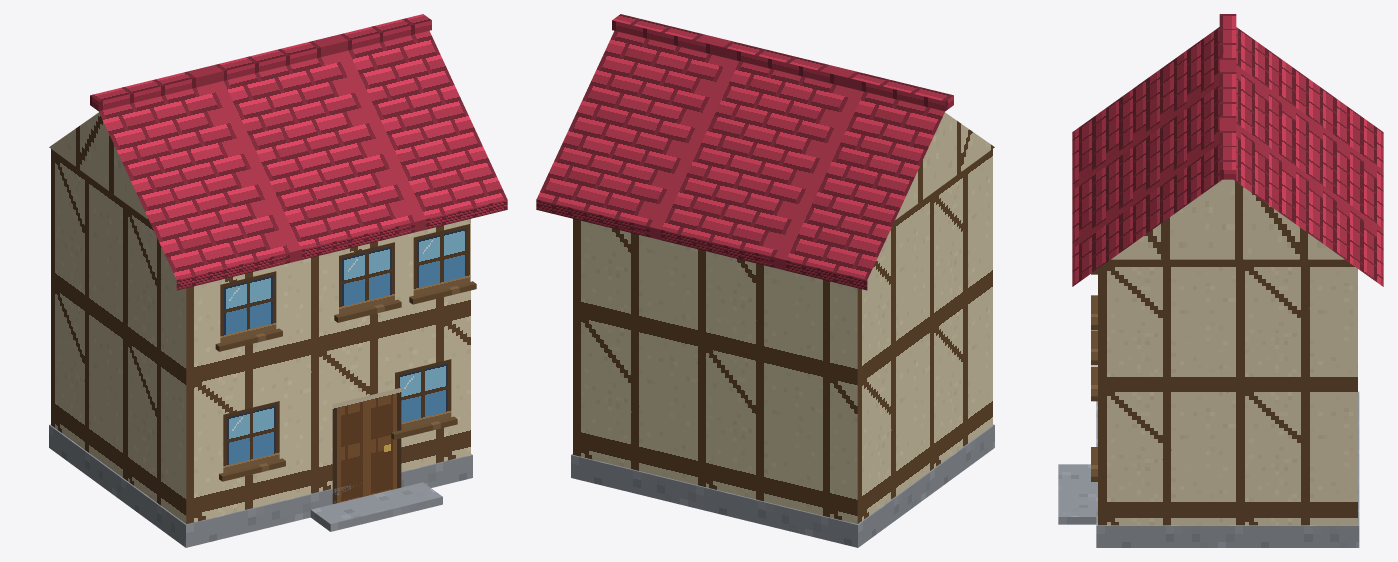
The model's file is house_5.glb.
3 views of the same model, side by side, from view 1: azimuth 30°, elevation 25°; view 2: azimuth 150°, elevation 25°; view 3: azimuth 270°, elevation 25° (orthographic). The views are drawn at different scales.
Parts seen in each view (by area): view 1: house_5; view 2: house_5; view 3: house_5.
Part boxes in pixels (x1,y1,x2,y2): house_5: (49,14,507,547); house_5: (536,14,994,547); house_5: (1058,14,1383,547).
Size of the model in its own units: 5.34 by 6.2 by 4.7.
6 materials, 6 textured.
